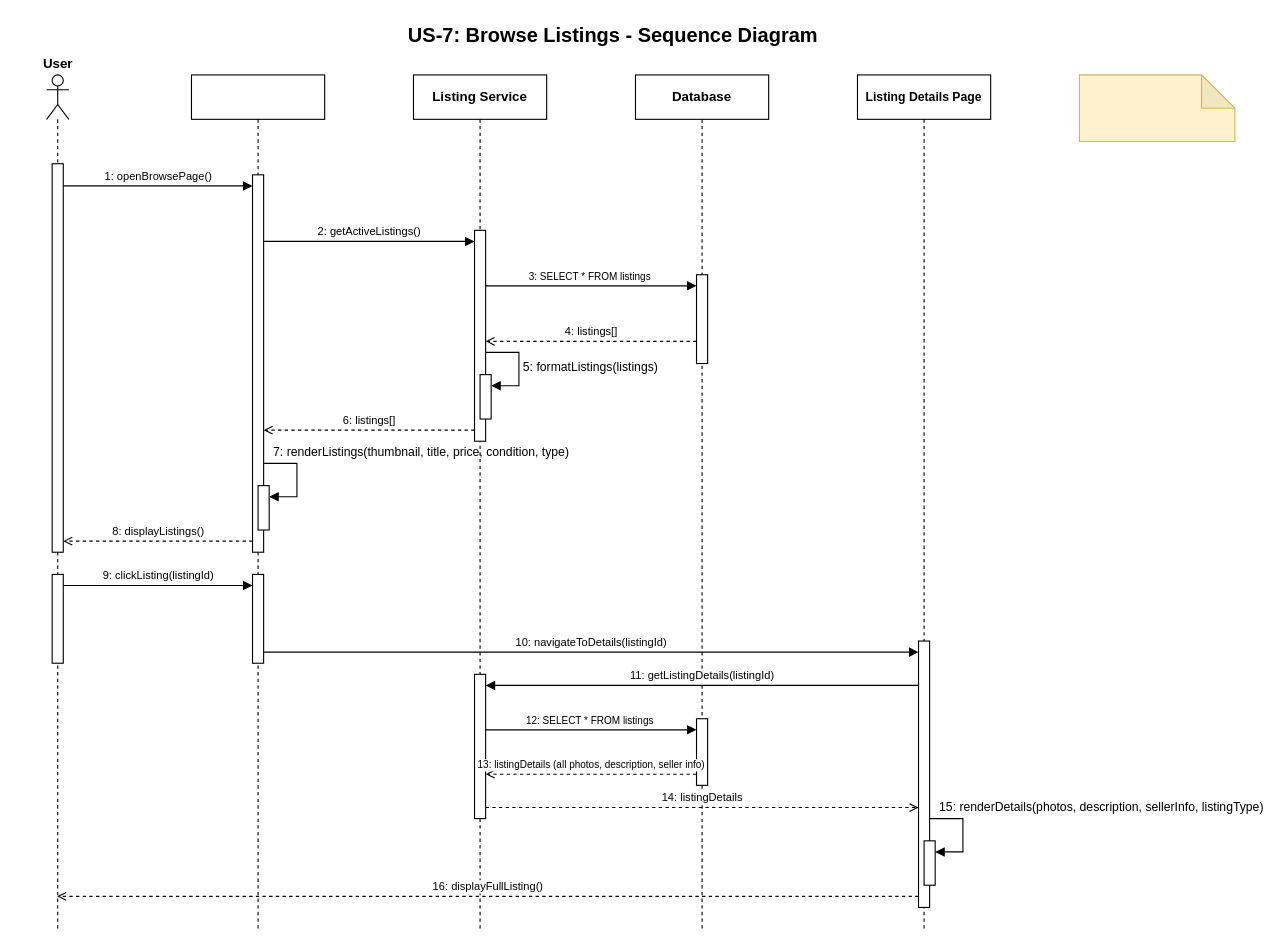
This 1283x949 diagram has some shape labels left out. Here are the shapes that lost their labels. From the top down, the centre of each, then its label:
At (1156,108): "Note: No authentication required for browsing or viewing listings".
At (257,502): "Browse Page".
